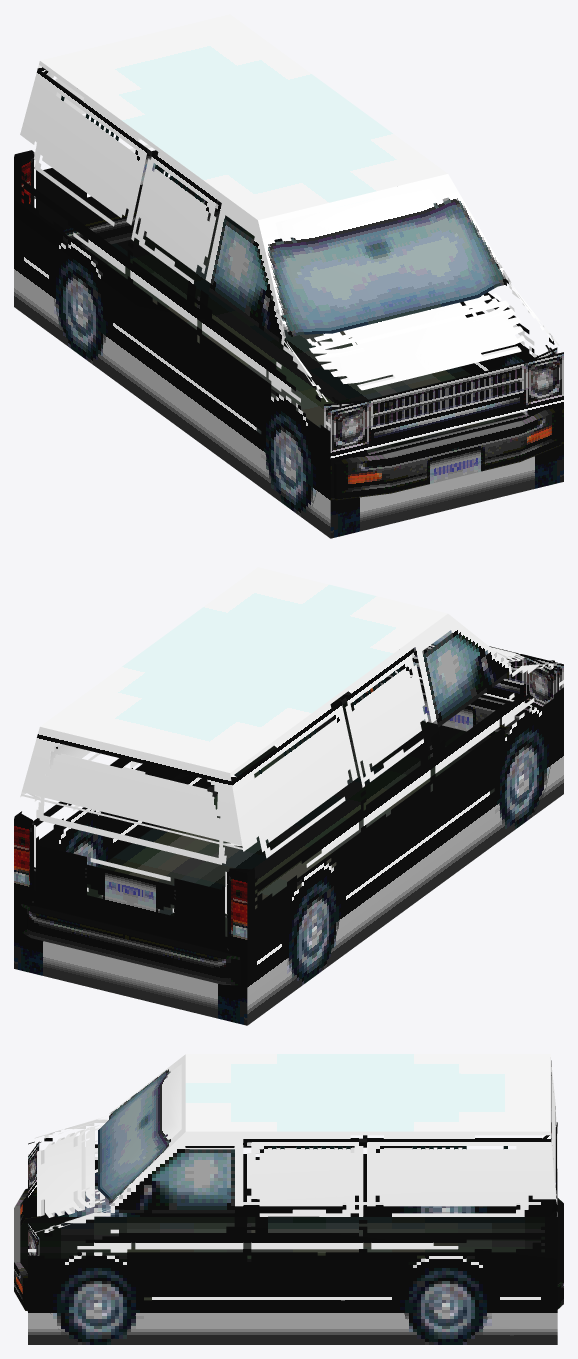
File: traffic-58.glb
3 views of the same model, one above another, from view 1: azimuth 30°, elevation 25°; view 2: azimuth 150°, elevation 25°; view 3: azimuth 270°, elevation 25° (orthographic). The views are drawn at different scales.
Parts seen in each view (by area): view 1: head, body; view 2: head, body; view 3: head, body.
Part boxes in pixels (x1,y1,x2,y2): head: (14,14,563,538); body: (19,70,561,513); head: (14,567,563,1025); body: (19,629,557,985); head: (28,1054,557,1344); body: (14,1064,563,1337).
Bounding box in the file's own units: 18.92 × 18.87 × 46.04.
Materials: 8 (8 with a texture image).
